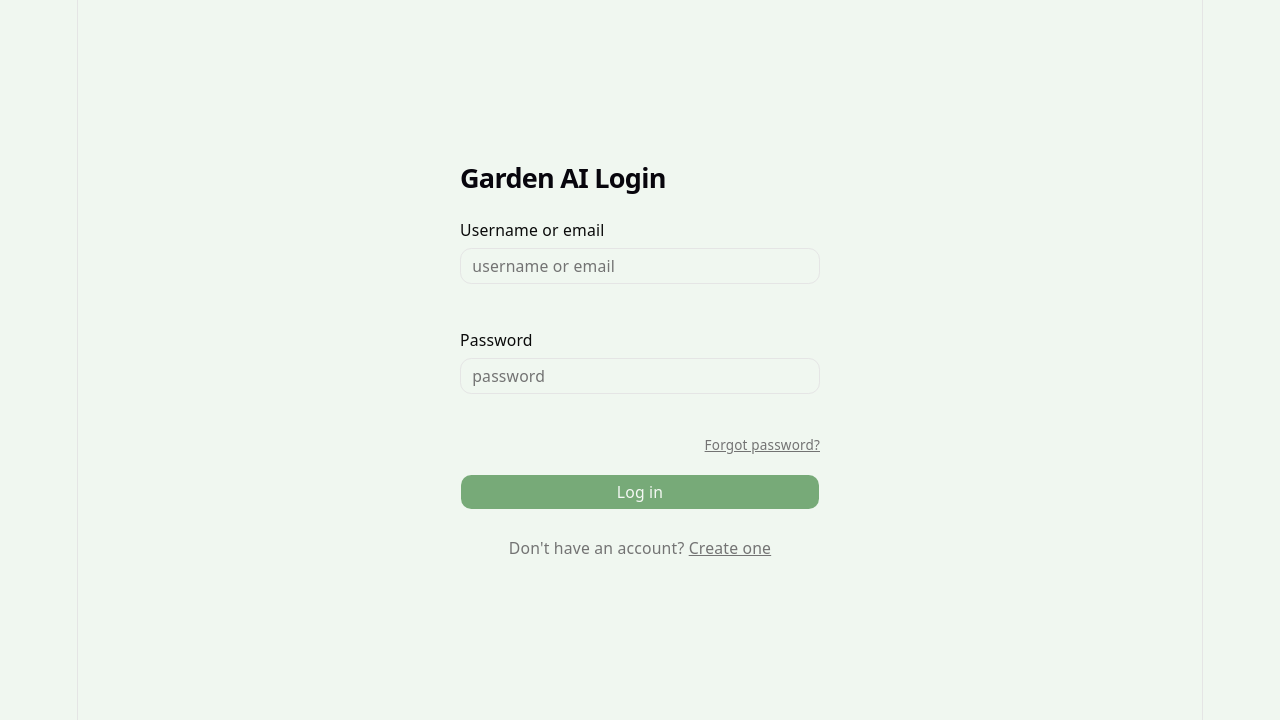
Login › submit button enables once both fields are filled
Type "alice" into the field labelled "Username or email" at (640, 266), box left=460, top=248, right=820, bottom=284
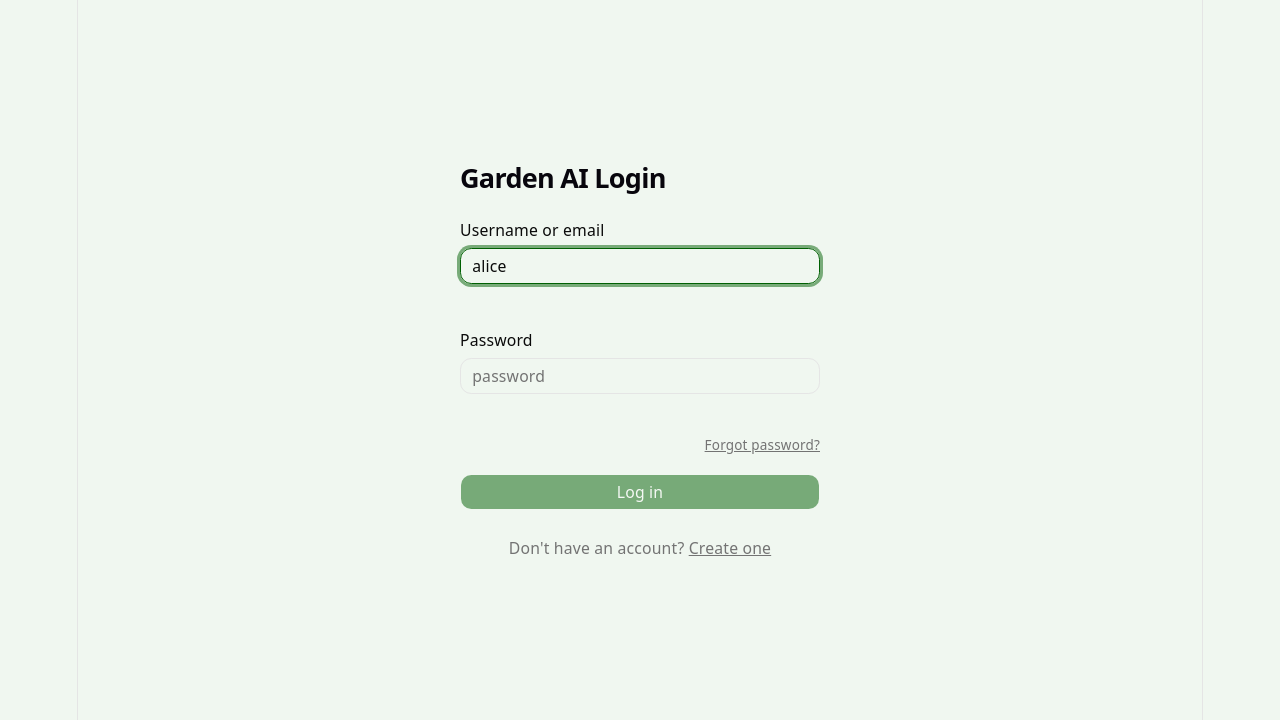
Type "secret" into the password field labelled "Password" at (640, 376), box left=460, top=358, right=820, bottom=394
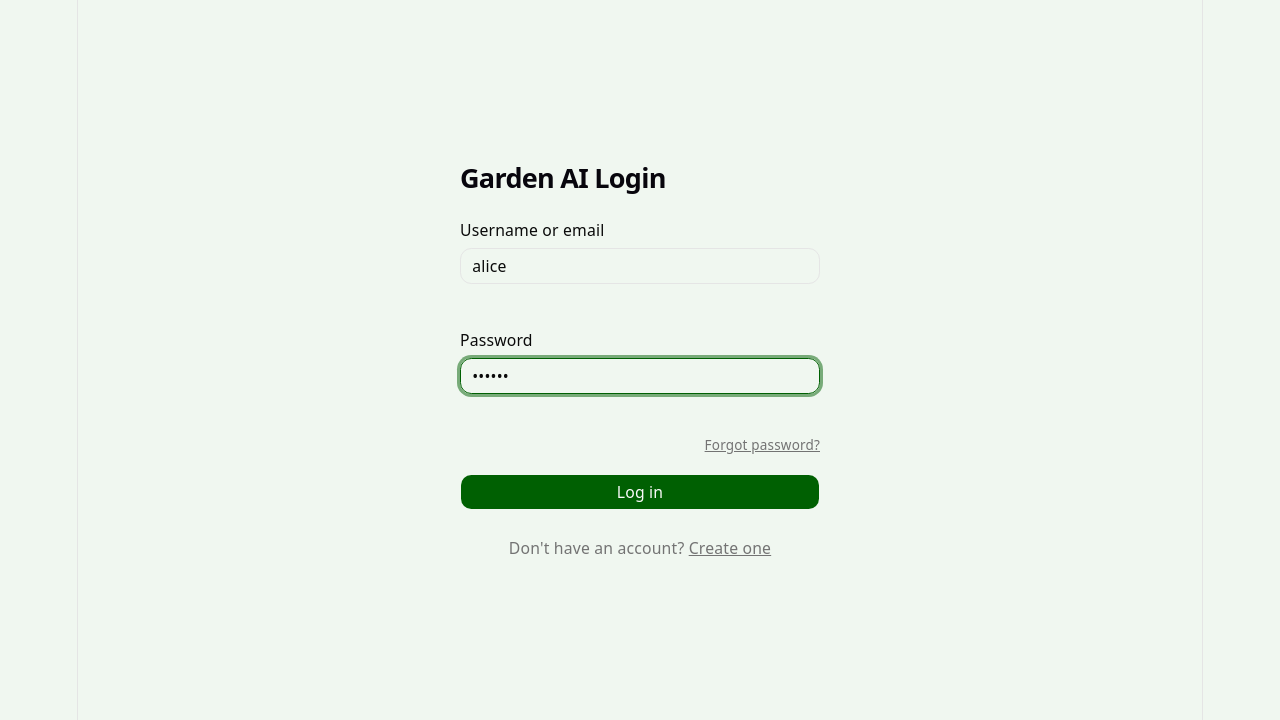
Now the button "Log in" is enabled, box left=460, top=474, right=820, bottom=510
